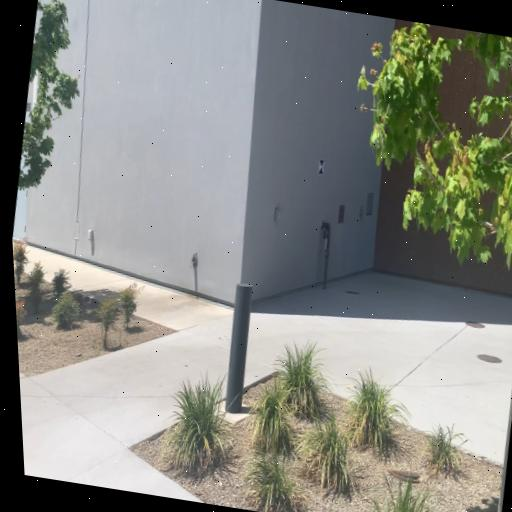target3: (318, 160, 324, 174)
